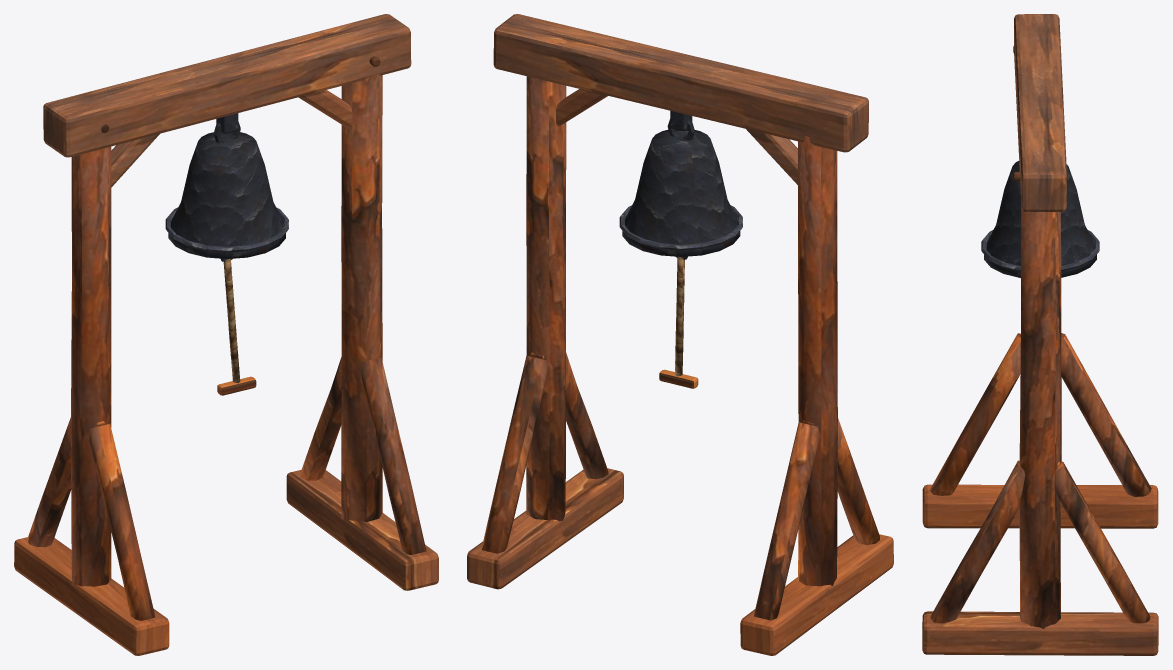
File: mp_bell_frame.glb
3 views of the same model, side by side, from view 1: azimuth 30°, elevation 25°; view 2: azimuth 150°, elevation 25°; view 3: azimuth 270°, elevation 25° (orthographic). The views are drawn at different scales.
Parts seen in each view (by area): view 1: model; view 2: model; view 3: model.
Part boxes in pixels (box(x1,y1,x2,y2)): model: box(14, 14, 438, 655); model: box(467, 14, 893, 655); model: box(922, 14, 1158, 655).
Bounding box in the file's own units: 1.17 × 1.63 × 0.7077.
Materials: 15 (15 with a texture image).
